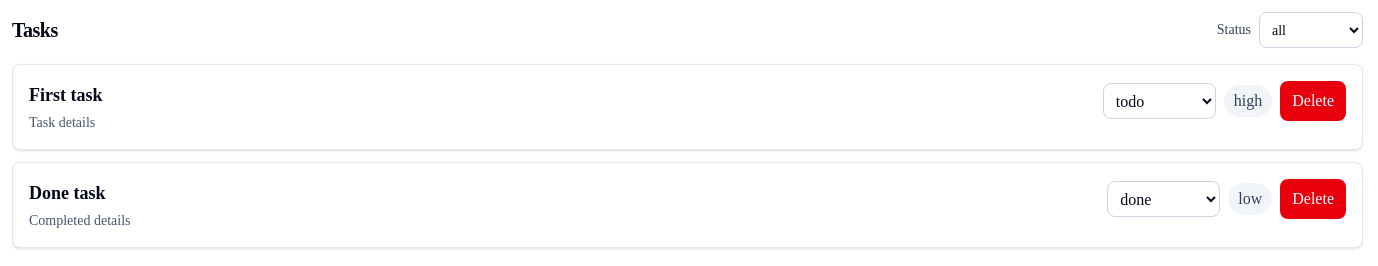
Test: TaskList › filters tasks by selected status
expect the heading "First task" is shown: met, box x1=29 y1=81 x2=102 y2=109
expect the heading "Done task" is shown: met, box x1=29 y1=183 x2=106 y2=203
Select "done" in the dropdown labelled "Status" at (1311, 30), box x1=1259 y1=12 x2=1363 y2=48
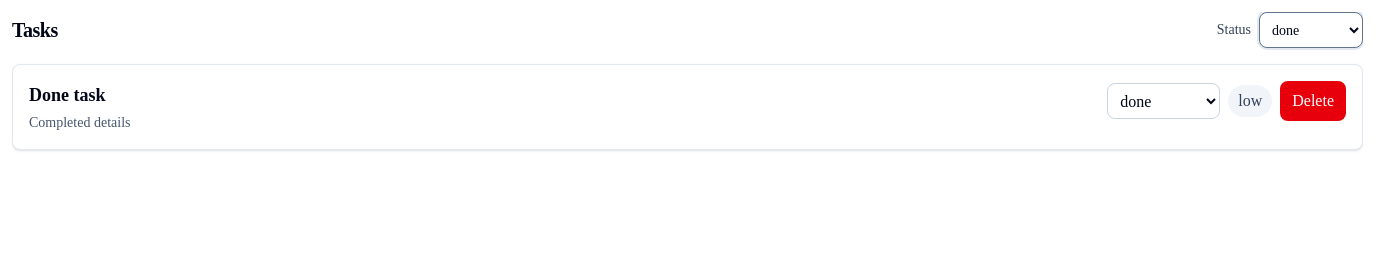
expect the heading "Done task" is shown: met, box x1=29 y1=85 x2=106 y2=105
expect the heading "First task" is gone: met
